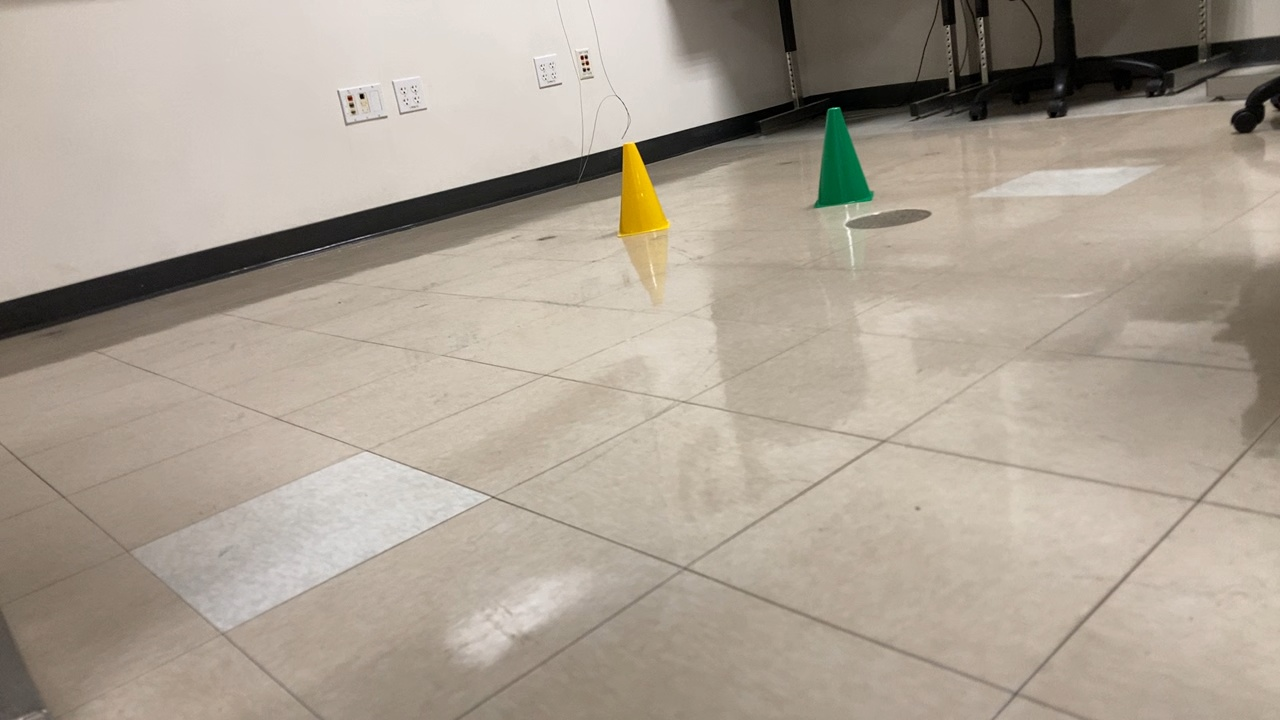green_cone: (801, 102, 880, 210)
yellow_cone: (607, 139, 677, 240)
